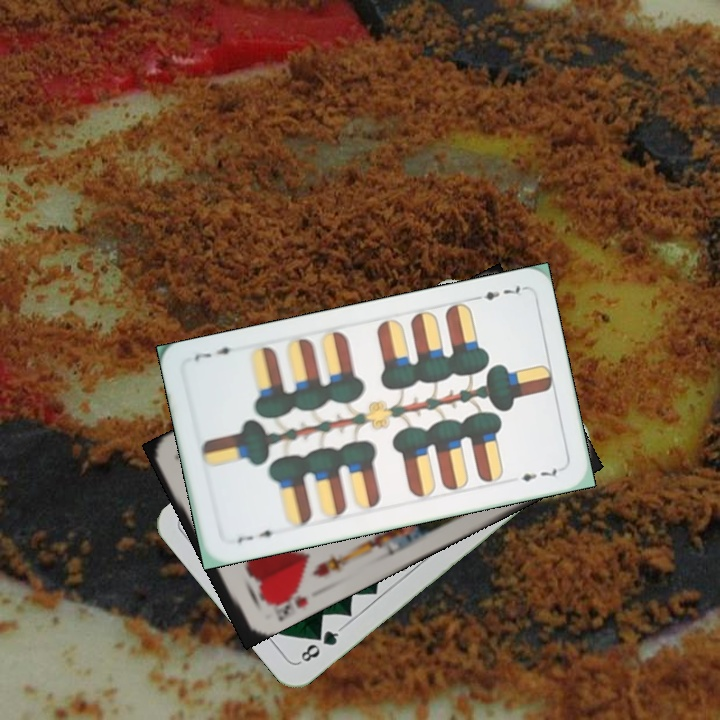E7: (468, 282, 527, 304), (232, 526, 282, 546)
G8: (295, 623, 344, 666)
HK: (262, 582, 311, 623)
